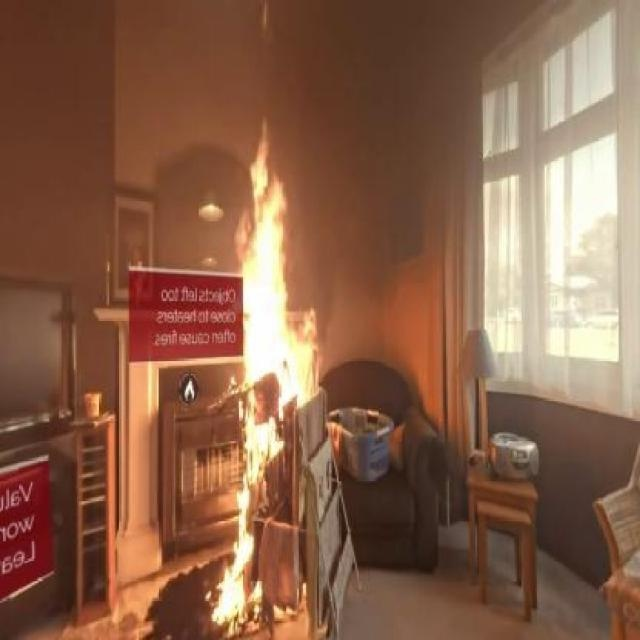fire: (239, 116, 325, 386)
